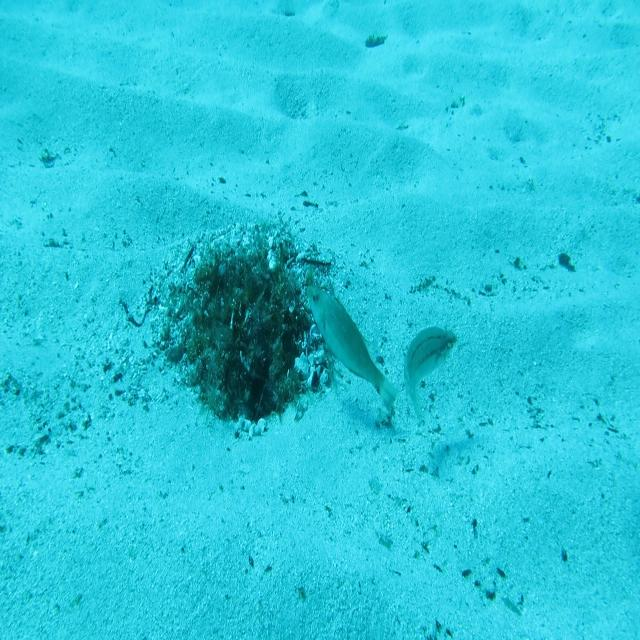BN: (304, 282, 401, 414)
core_nest: (218, 268, 274, 308)
female: (402, 324, 458, 426)
nest: (139, 213, 353, 449)
vegetation: (365, 31, 388, 51)
